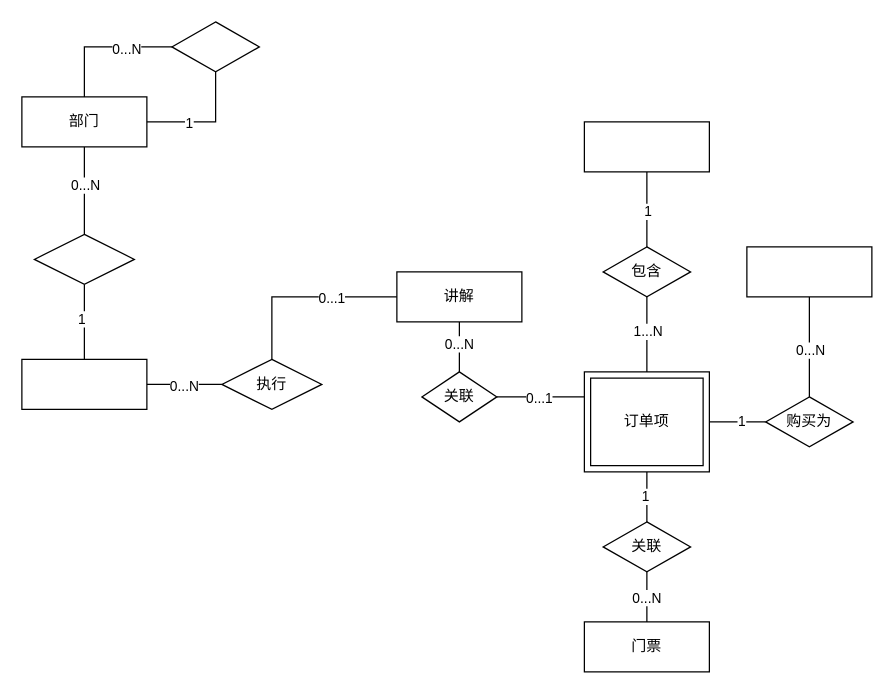
Image size: 894x694. Some labels were removed from this diagram. The shapes that lost their labels are listed below. From the top down, each one's centre as x and y in pixels, then its label:
the point at 215,46: 管理
the point at 646,146: 订单
the point at 83,258: 雇佣
the point at 809,271: 游客
the point at 84,383: 讲解员
